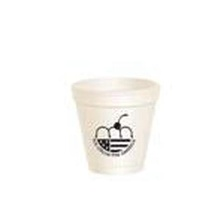paper_cup: (67, 70, 164, 180)
